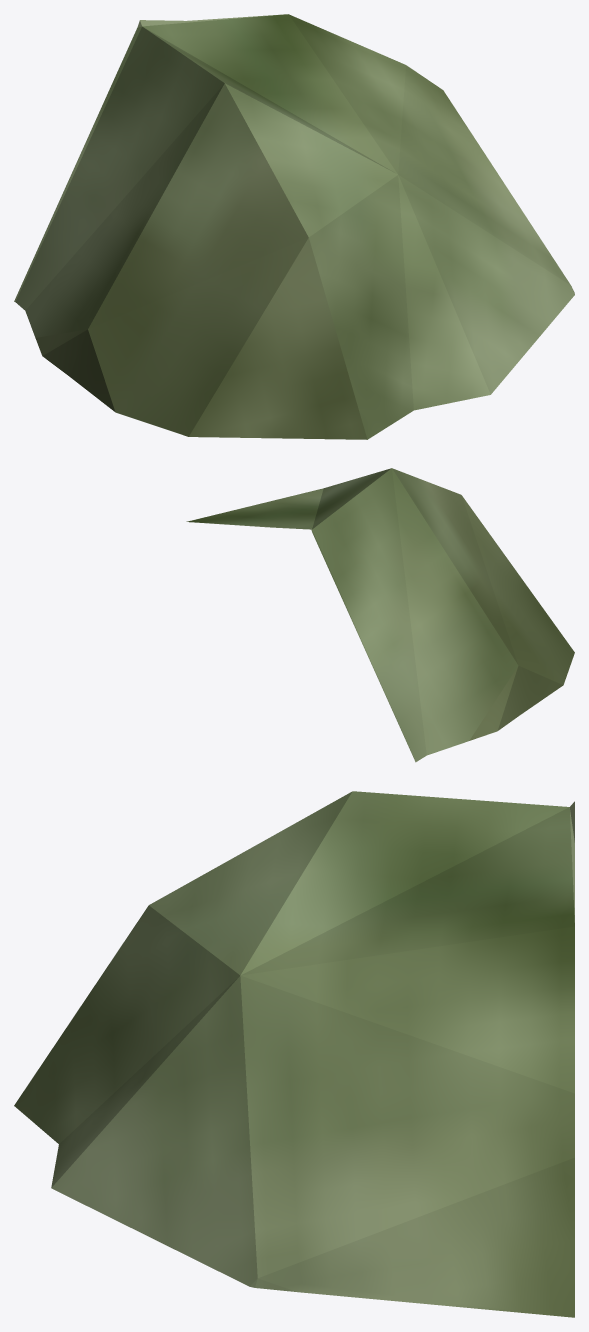
3 views of the same model, one above another, from view 1: azimuth 30°, elevation 25°; view 2: azimuth 150°, elevation 25°; view 3: azimuth 270°, elevation 25° (orthographic). The views are drawn at different scales.
Size of the model in its own units: 0.2642 by 0.125 by 0.2035.
Materials: 1 (1 with a texture image).
